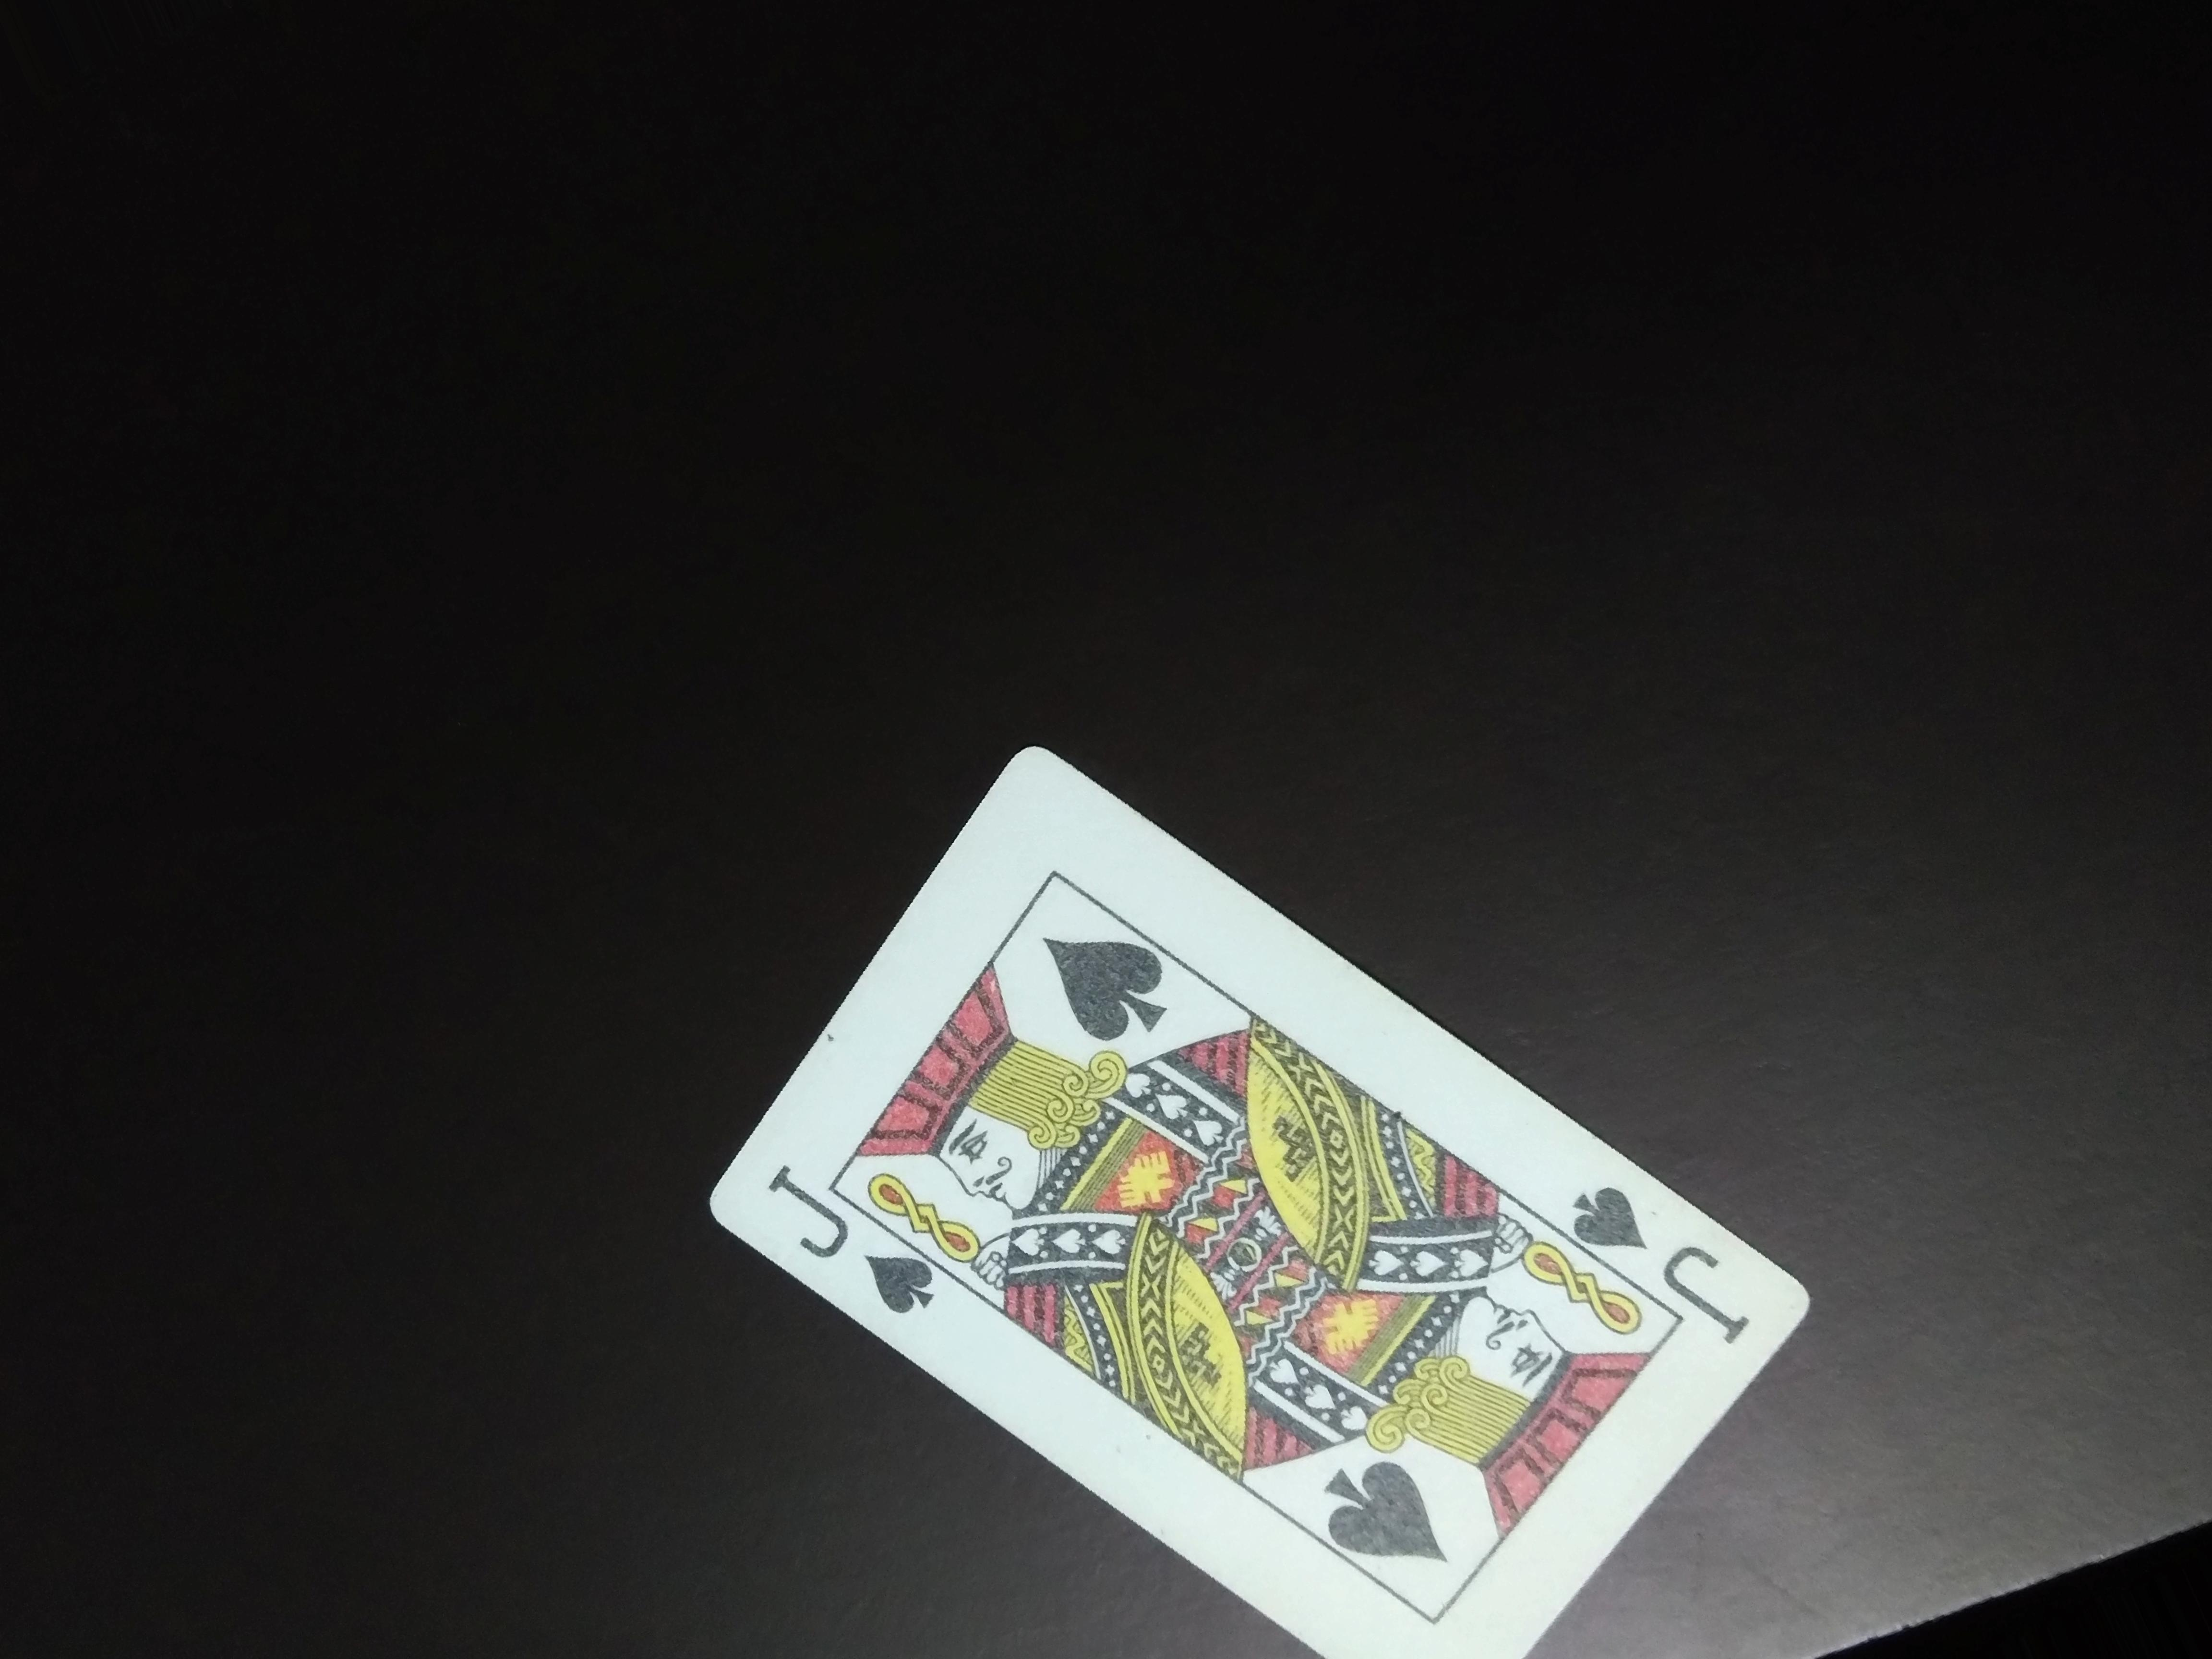JS: (1557, 1114, 1768, 1349)
